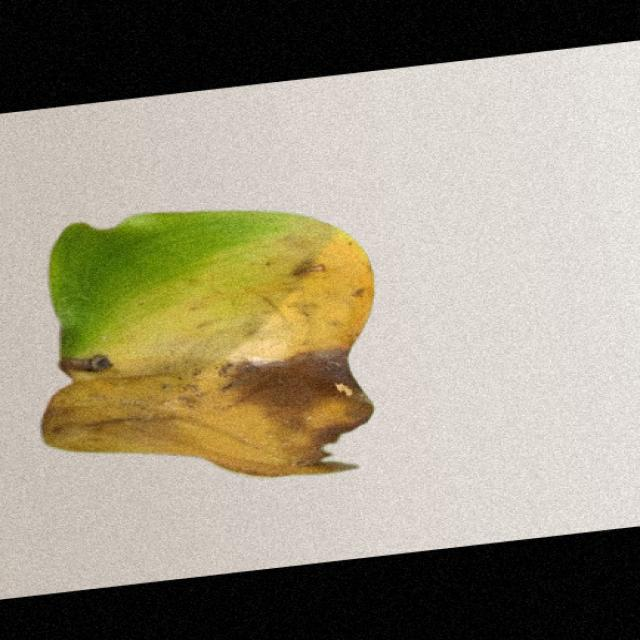daun berpenyakit kuning: (42, 212, 373, 476)
